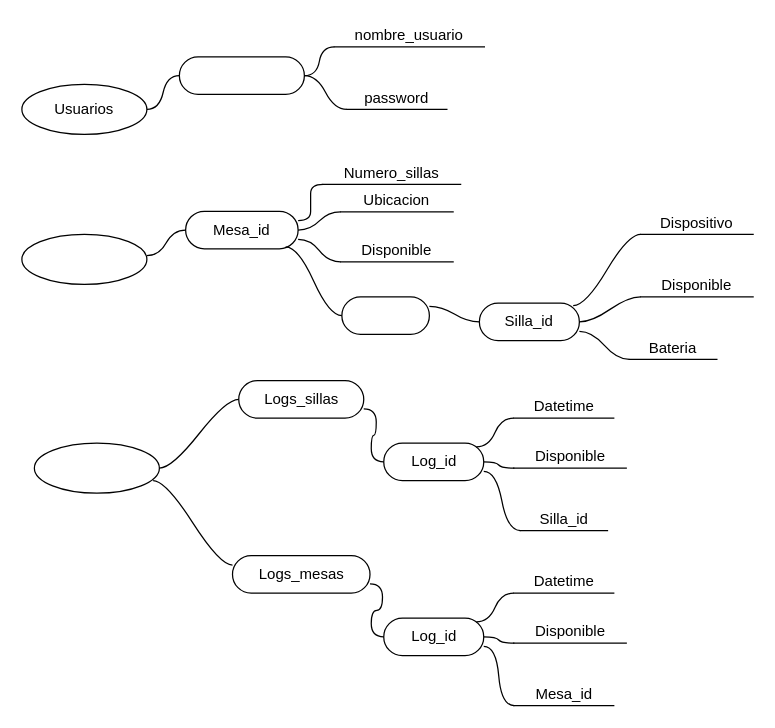
Some shapes in this 775 by 728 pixel diagram are drawn without their labels. Each missing label, with the centre of its shape:
"Logs" belongs at point (96, 467).
"Mesa" belongs at point (84, 258).
"Sillas" belongs at point (385, 315).
"Usuario_id" belongs at point (241, 75).
